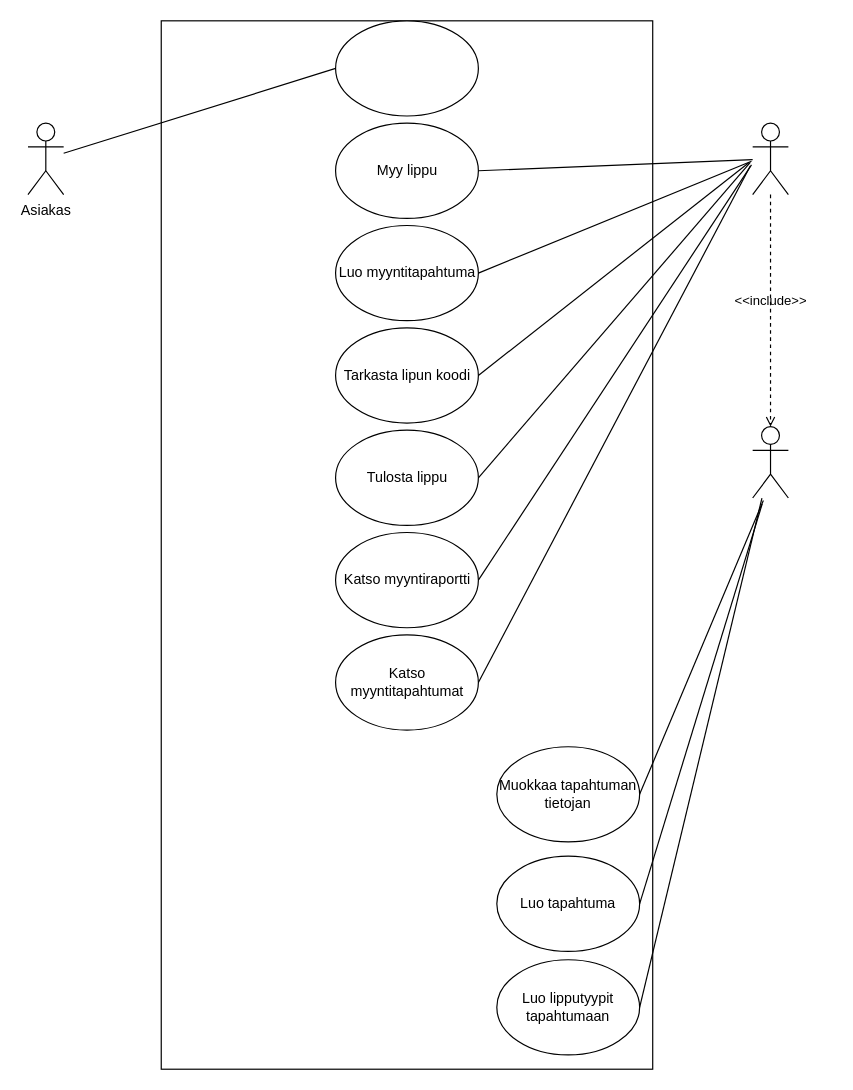
Image size: 853x1090. Some labels were removed from this diagram. The centre of each missing label's shape, as x and y in pixels:
Järjestelmänvalvoja: point (769, 461)
Lipunmyyjä: point (769, 158)
Osta lippu: point (406, 68)
